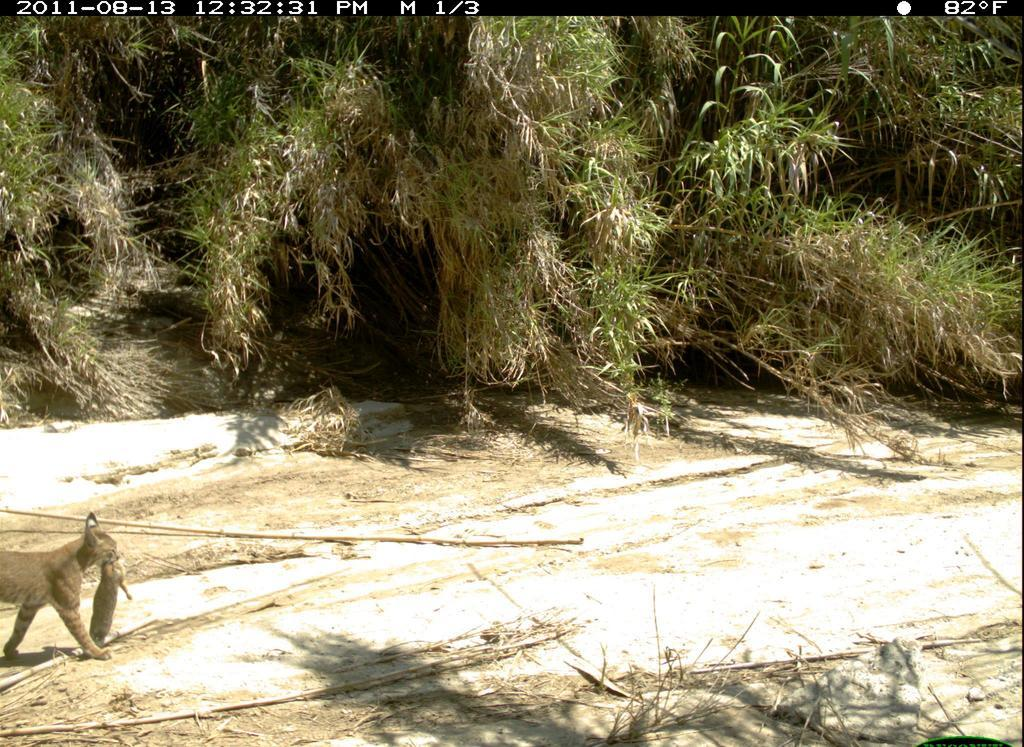rabbit: (87, 552, 137, 652)
